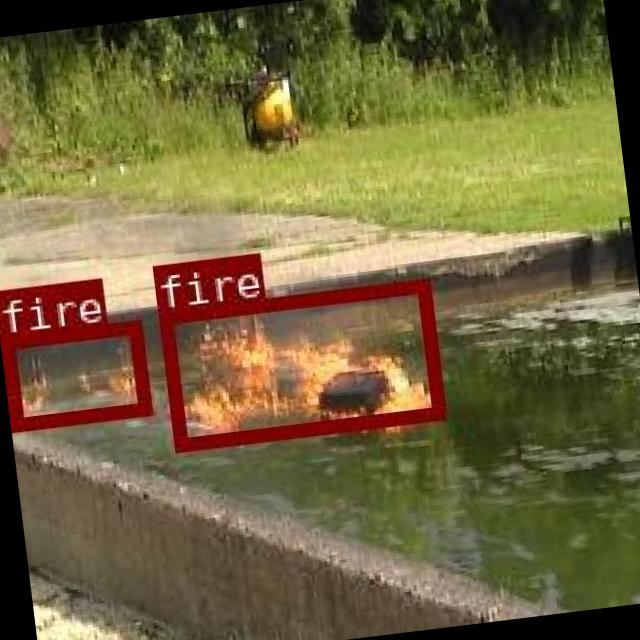fire: (156, 276, 444, 448), (0, 319, 146, 427)
